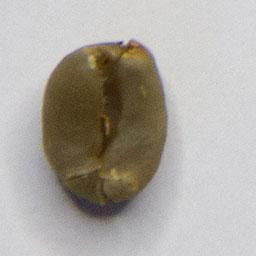premium: (38, 35, 171, 210)
